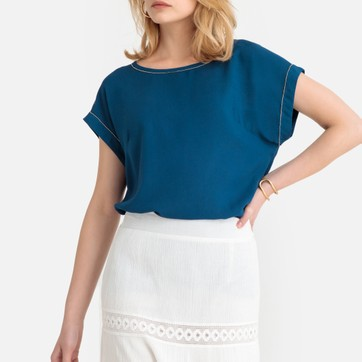C_short blouse: (82, 38, 308, 221)
C_skirt: (99, 207, 261, 362)
